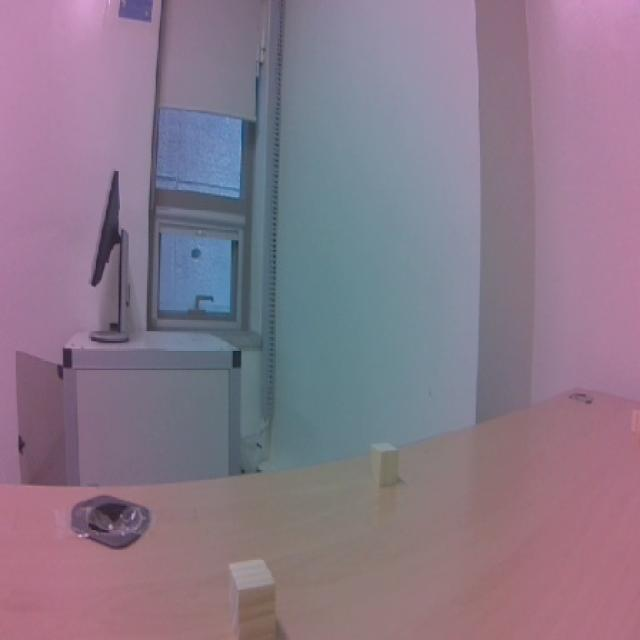obstacle: (361, 434, 407, 494)
